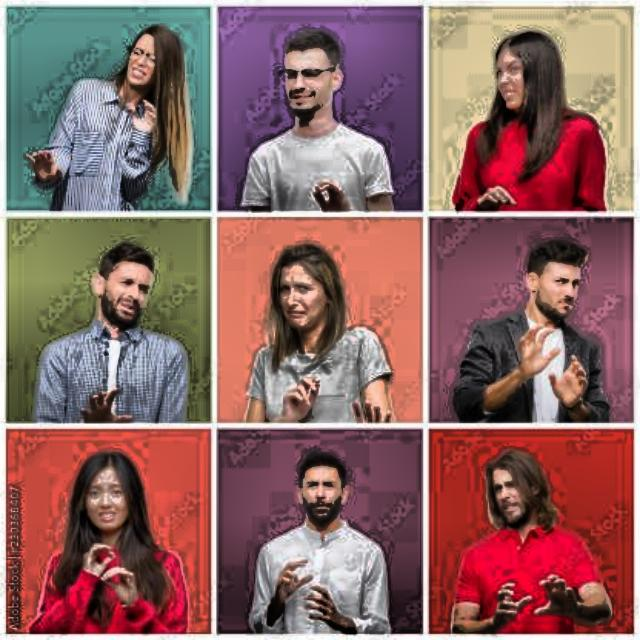disgust: (258, 242, 358, 363), (84, 232, 170, 350), (514, 235, 609, 331), (478, 34, 578, 124), (110, 11, 194, 112), (480, 443, 560, 543), (288, 454, 369, 537)
fear: (60, 439, 161, 552)
neutral: (273, 32, 360, 133)
